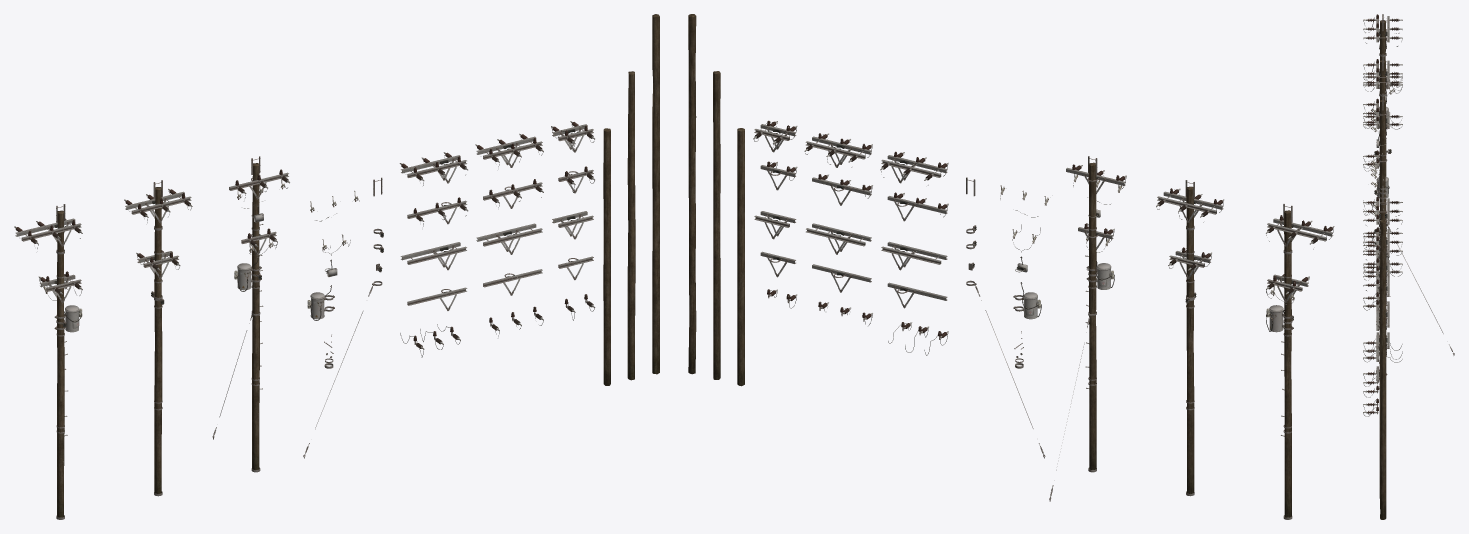
File: modular_electricity_poles.gltf
The picture shows the model from 3 angles, left to right: view 1: azimuth 30°, elevation 25°; view 2: azimuth 150°, elevation 25°; view 3: azimuth 270°, elevation 25°; orthographic projection. The views are drawn at different scales.
Parts seen in each view (by area): view 1: pole_large, pole, preset_02_pole, preset_01_pole, preset_03_pole, pole_small, connection_large_01, connection_large_offset_01, preset_02_connection_large_01, preset_03_connection_large_offset_01, support_large_offset_01, support_large_01; view 2: pole_large, pole, preset_01_pole, preset_03_pole, preset_02_pole, pole_small, connection_large_01, connection_large_offset_01, preset_02_connection_large_01, preset_03_connection_large_offset_01, support_large_offset_01, support_large_01; view 3: pole_large, preset_01_pole, connection_large_offset_01, preset_03_connection_large_offset_01, preset_02_connection_large_01, connection_large_01, connection_small_01, pole, preset_03_pole, preset_02_pole, pole_small, preset_02_connection_small_01 (+11 smaller).
Boxes of the visible parts, x1,y1,x2,y2 form: pole_large: (652, 14, 659, 374); pole: (627, 71, 635, 380); preset_02_pole: (154, 187, 162, 493); preset_01_pole: (252, 163, 259, 469); preset_03_pole: (57, 210, 64, 517); pole_small: (603, 128, 610, 385); connection_large_01: (475, 133, 543, 167); connection_large_offset_01: (399, 152, 467, 185); preset_02_connection_large_01: (124, 188, 192, 223); preset_03_connection_large_offset_01: (14, 218, 82, 248); support_large_offset_01: (400, 242, 466, 270); support_large_01: (476, 223, 542, 254); pole_large: (688, 14, 696, 374); pole: (713, 71, 720, 379); preset_01_pole: (1088, 162, 1096, 469); preset_03_pole: (1284, 210, 1291, 517); preset_02_pole: (1186, 186, 1194, 493); pole_small: (737, 128, 744, 386); connection_large_01: (804, 133, 872, 167); connection_large_offset_01: (880, 151, 948, 185); preset_02_connection_large_01: (1156, 188, 1224, 222); preset_03_connection_large_offset_01: (1266, 215, 1334, 249); support_large_offset_01: (881, 241, 947, 270); support_large_01: (806, 223, 871, 254); pole_large: (1380, 219, 1386, 519); preset_01_pole: (1379, 99, 1386, 334); connection_large_offset_01: (1363, 196, 1402, 231); preset_03_connection_large_offset_01: (1363, 14, 1402, 49); preset_02_connection_large_01: (1363, 59, 1402, 88); connection_large_01: (1363, 227, 1402, 257); connection_small_01: (1363, 258, 1402, 283); pole: (1379, 253, 1386, 508); preset_03_pole: (1379, 20, 1386, 176); preset_02_pole: (1379, 60, 1386, 212); pole_small: (1379, 286, 1386, 498); preset_02_connection_small_01: (1363, 112, 1402, 135).
Bounding box in the file's own units: 13.12 × 7 × 1.96.
2 materials, 2 textured.
